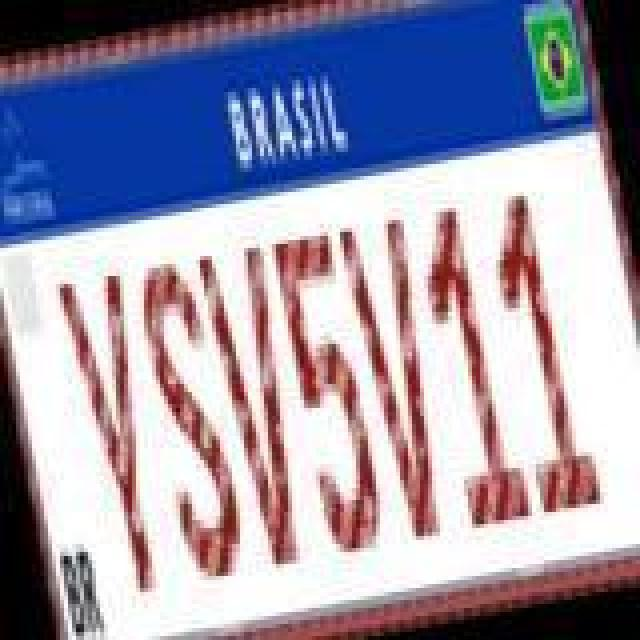1: (410, 200, 534, 536), (482, 184, 606, 520)
5: (262, 222, 394, 562)
S: (126, 248, 258, 592)
V: (190, 238, 322, 578), (334, 206, 466, 546)
Y: (54, 262, 186, 602)
